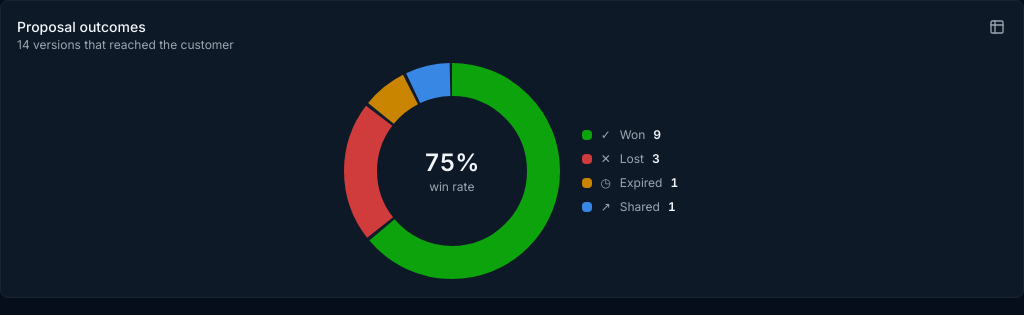
Test: OutcomeDonut › shows the win rate, then the hovered outcome, then pins on click
Expected: the text "75%" is shown, [424, 147, 479, 179]
Expected: the text "win rate" is shown, [429, 179, 474, 195]
Hover over the button "✕ Lost 3" at [621, 159], box [578, 149, 664, 169]
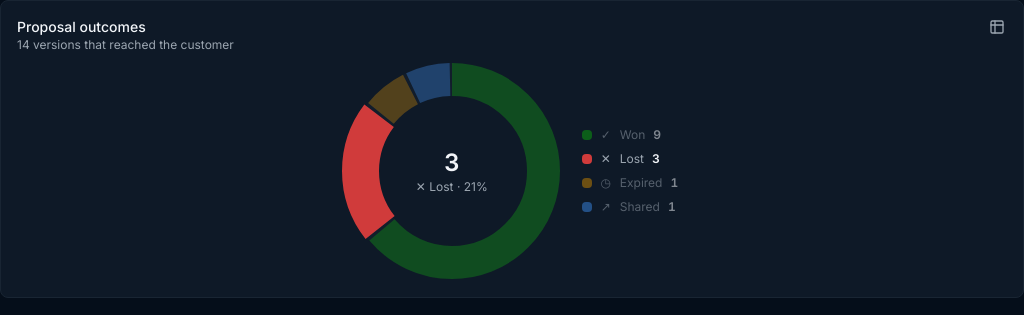
Result: the text "✕ Lost · 21%" is shown at [416, 179, 488, 195]
Move the pointer off the button "✕ Lost 3", box [578, 149, 664, 169]
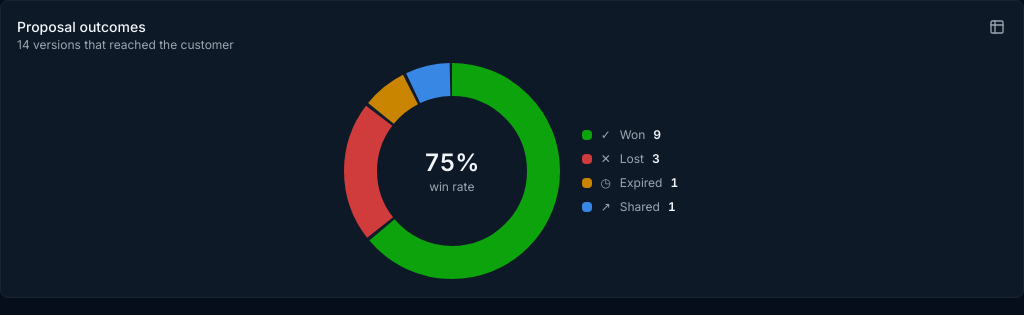
Result: the text "win rate" is shown at [429, 179, 474, 195]
Click the button "✕ Lost 3" at [621, 159], box [578, 149, 664, 169]
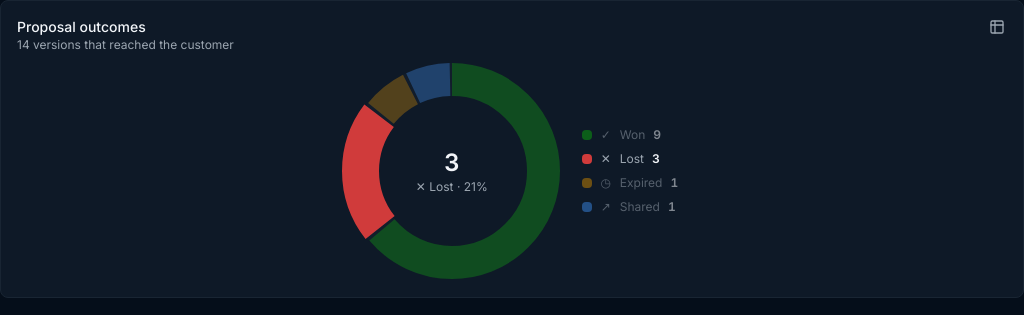
Result: the text "✕ Lost · 21%" is shown at [416, 179, 488, 195]
